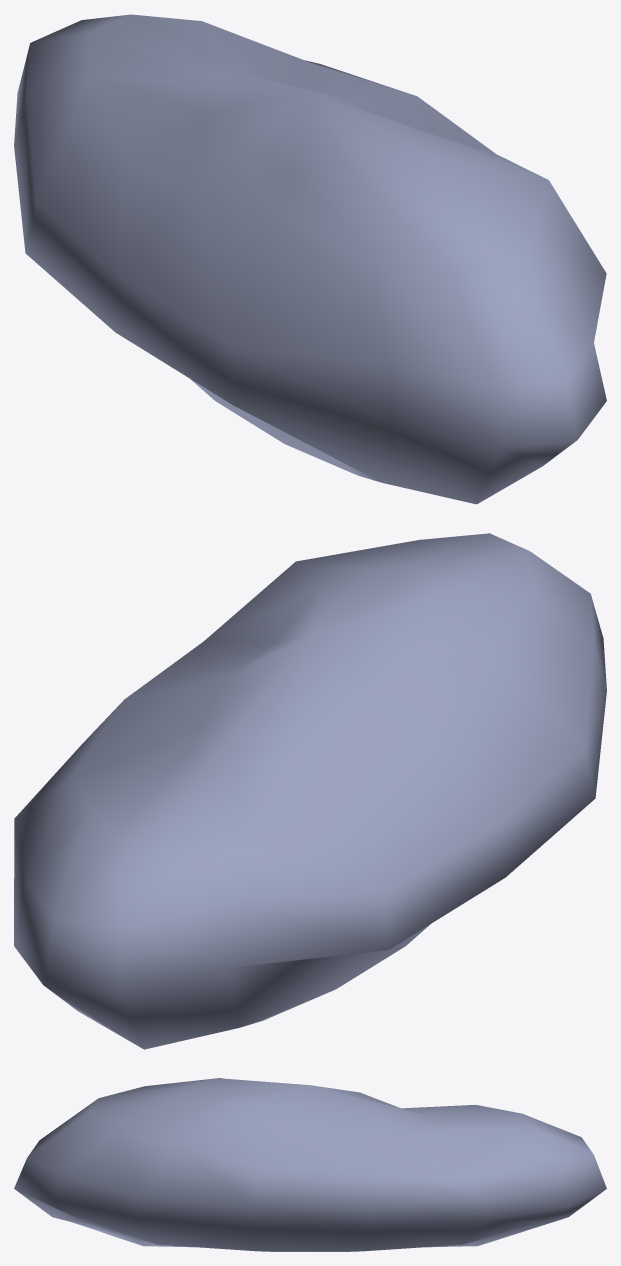
File: bala lv1.FBX
The picture shows the model from 3 angles, top to bottom: view 1: azimuth 30°, elevation 25°; view 2: azimuth 150°, elevation 25°; view 3: azimuth 270°, elevation 25°; orthographic projection. The views are drawn at different scales.
Parts seen in each view (by area): view 1: Sphere001; view 2: Sphere001; view 3: Sphere001.
Boxes of the visible parts, box(x1,y1,x2,y2) form: Sphere001: box(14, 14, 606, 504); Sphere001: box(14, 533, 606, 1049); Sphere001: box(14, 1078, 606, 1251).
Bounding box in the file's own units: 11.76 × 8.69 × 27.62.
